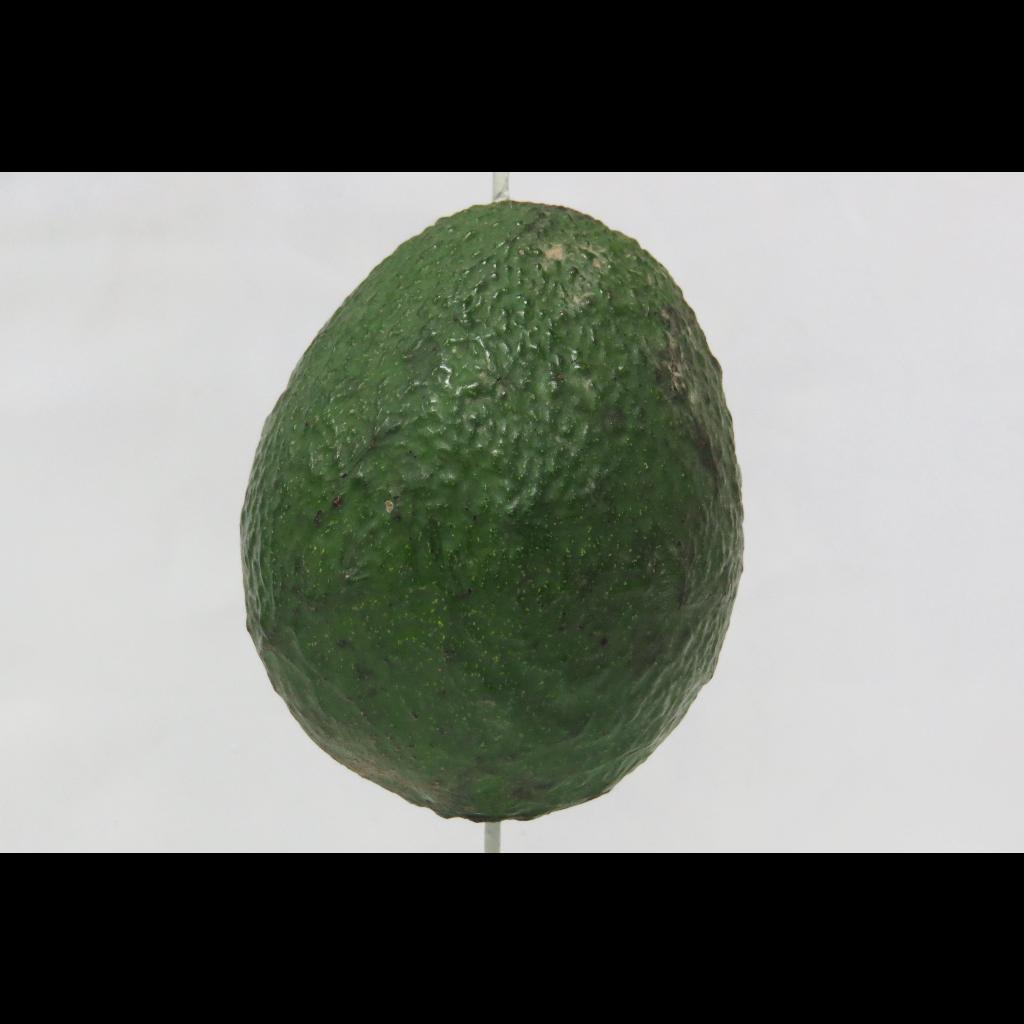Healthy: (232, 185, 770, 835)
